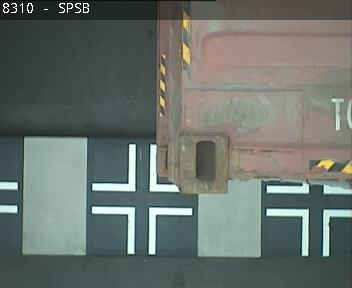groundmarker_1: (90, 206, 191, 256), (265, 208, 352, 256), (91, 144, 176, 193)
